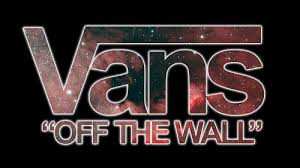vans: (20, 26, 266, 117)
